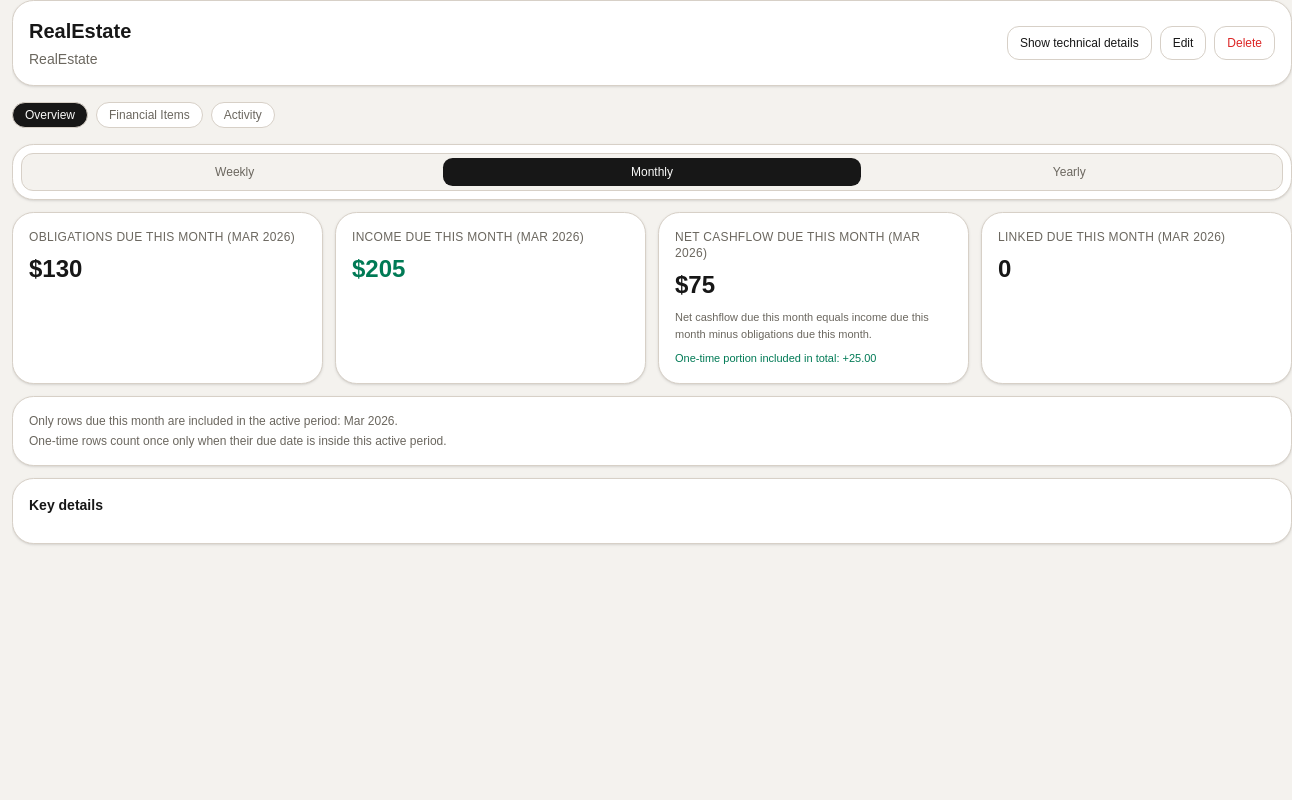
item detail events panel › defaults to monthly cadence and keeps obligations/income/net labels and values synchronized when switching cadence
Expected: the text "Obligations due this month (Mar 2026)" is shown, [29,229,306,245]
Expected: the text "Income due this month (Mar 2026)" is shown, [352,230,584,244]
Click the button with aria-label "Selected cadence: Weekly". click: (235, 172)
box: [26,158,443,186]
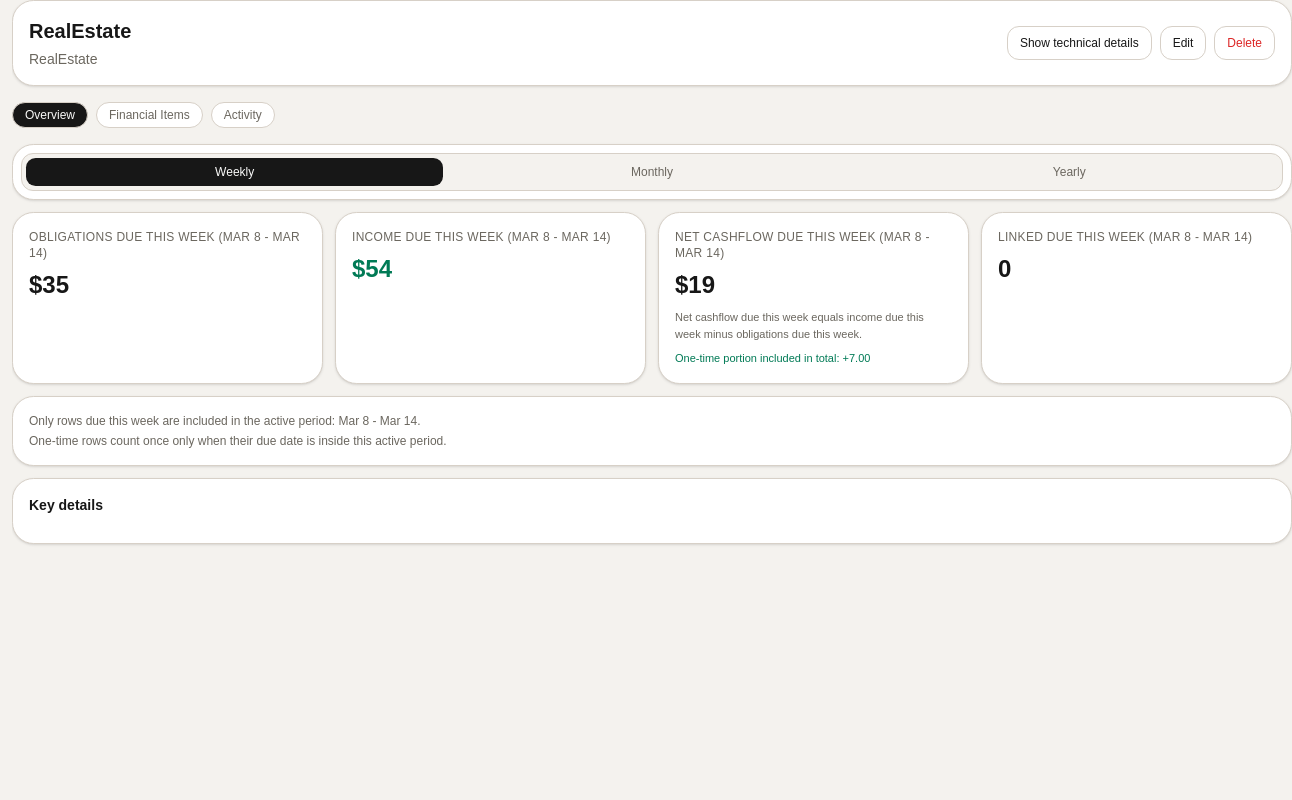
Expected: the text "Obligations due this week (Mar 8 - Mar 14)" is shown, [29,229,306,261]
Expected: the text "Income due this week (Mar 8 - Mar 14)" is shown, [352,229,629,245]
Expected: the text "Net cashflow due this week (Mar 8 - Mar 14)" is shown, [675,229,952,261]
Click the button with aria-label "Selected cadence: Yearly". click: (1069, 172)
box: [861,158,1278,186]
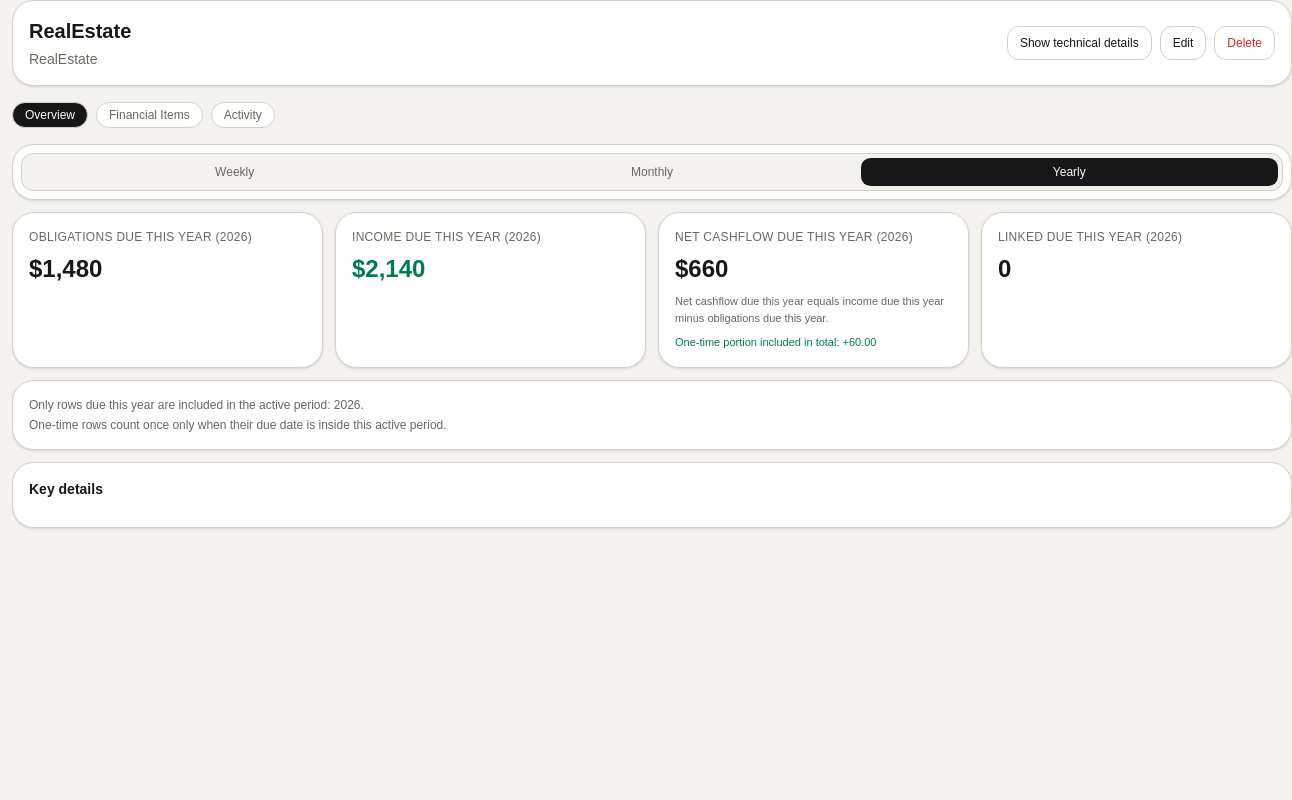
Expected: the text "Obligations due this year (2026)" is shown, [29,230,252,244]
Expected: the text "Income due this year (2026)" is shown, [352,230,541,244]
Expected: the text "Net cashflow due this year (2026)" is shown, [675,229,952,245]
